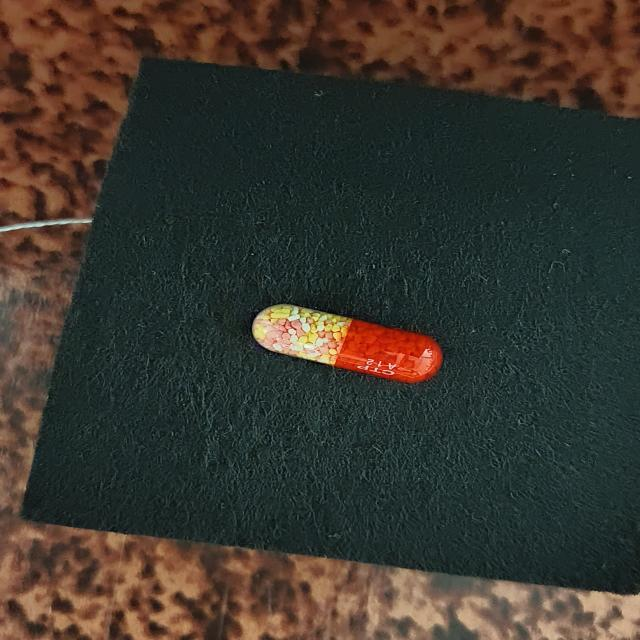Intact Capsule: (252, 304, 443, 383)
